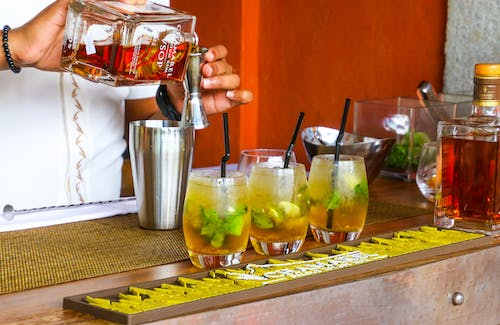alcohol: (55, 0, 200, 88), (433, 62, 500, 236), (181, 169, 251, 269), (249, 161, 311, 257), (308, 153, 369, 246)
